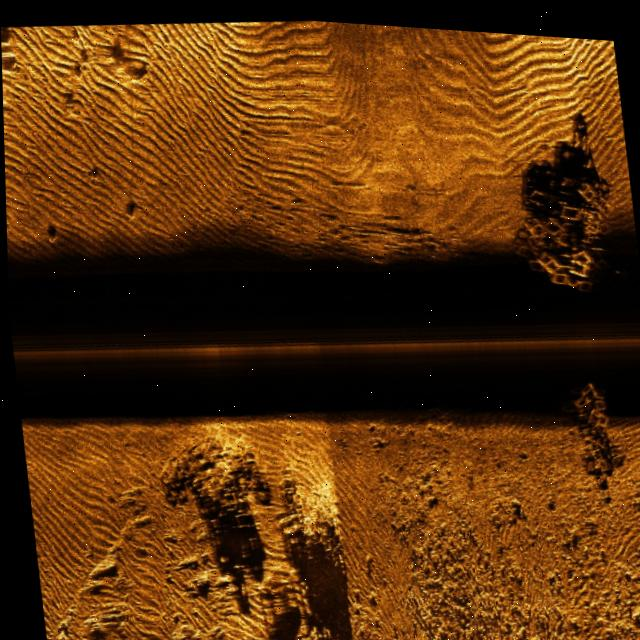artificial reef: (503, 161, 622, 296), (557, 354, 619, 472)
